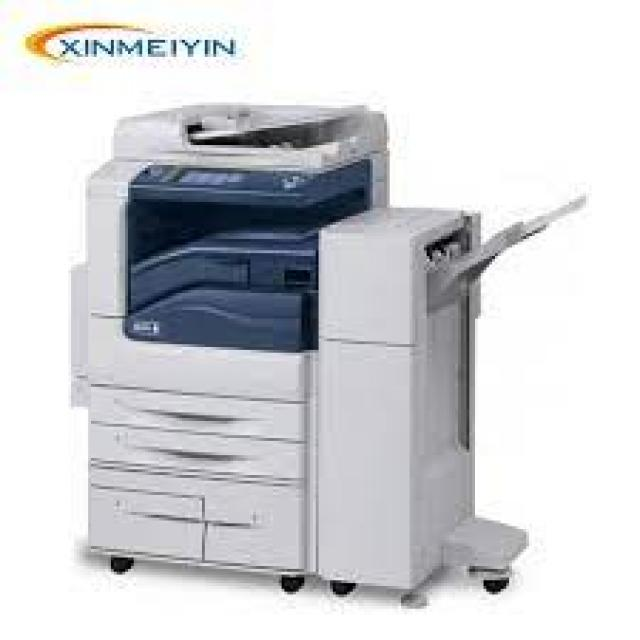printer: (64, 82, 594, 608)
